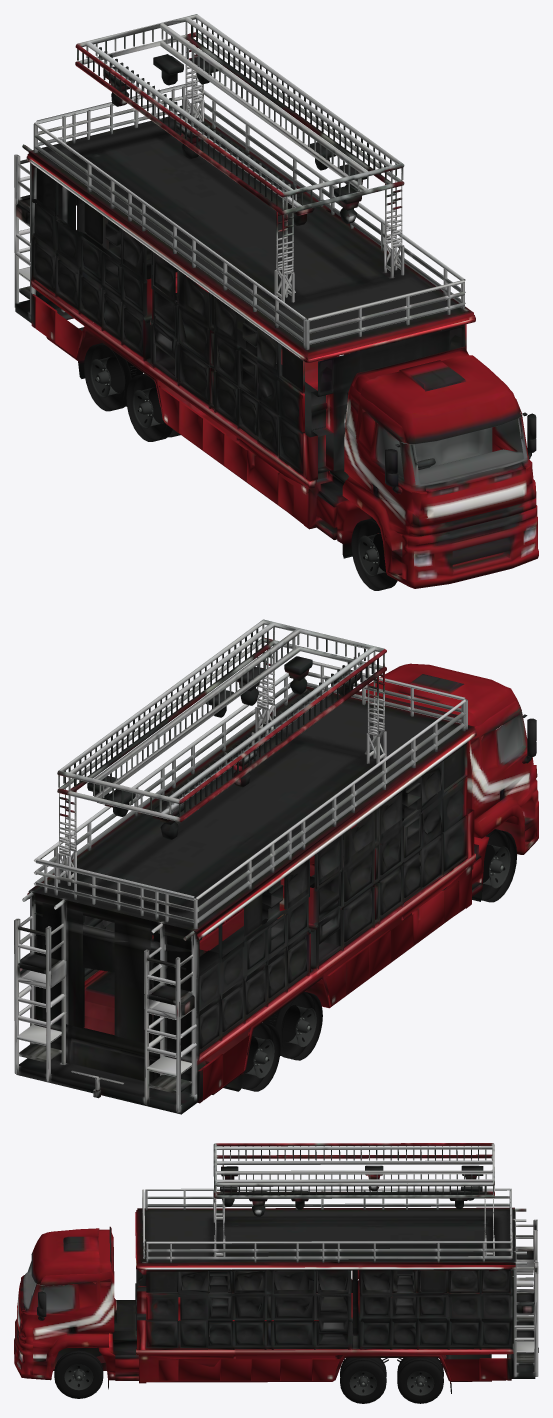
File: som-caminhao-1.glb
The picture shows the model from 3 angles, top to bottom: view 1: azimuth 30°, elevation 25°; view 2: azimuth 150°, elevation 25°; view 3: azimuth 270°, elevation 25°; orthographic projection. The views are drawn at different scales.
Visible parts, largest first — view 1: Som_caminhao, Tyre_Rear2_L, Tyre_Rear_L, Tyre_Front_L; view 2: Som_caminhao, Tyre_Rear_L, Tyre_Front_L, Tyre_Rear2_L; view 3: Som_caminhao, Tyre_Front_R, Tyre_Rear_R, Tyre_Rear2_R.
Part boxes in pixels (<box>): Som_caminhao: <box>14,14,538,588</box>; Tyre_Rear2_L: <box>84,343,143,411</box>; Tyre_Rear_L: <box>126,373,180,441</box>; Tyre_Front_L: <box>351,518,397,590</box>; Som_caminhao: <box>14,619,538,1114</box>; Tyre_Rear_L: <box>263,991,322,1060</box>; Tyre_Front_L: <box>481,829,516,902</box>; Tyre_Rear2_L: <box>241,1022,280,1091</box>; Som_caminhao: <box>14,1143,538,1393</box>; Tyre_Front_R: <box>54,1350,103,1398</box>; Tyre_Rear_R: <box>340,1357,386,1403</box>; Tyre_Rear2_R: <box>397,1357,443,1403</box>.
Size of the model in its own units: 2.64 by 4.66 by 10.2.
1 material, 1 textured.
